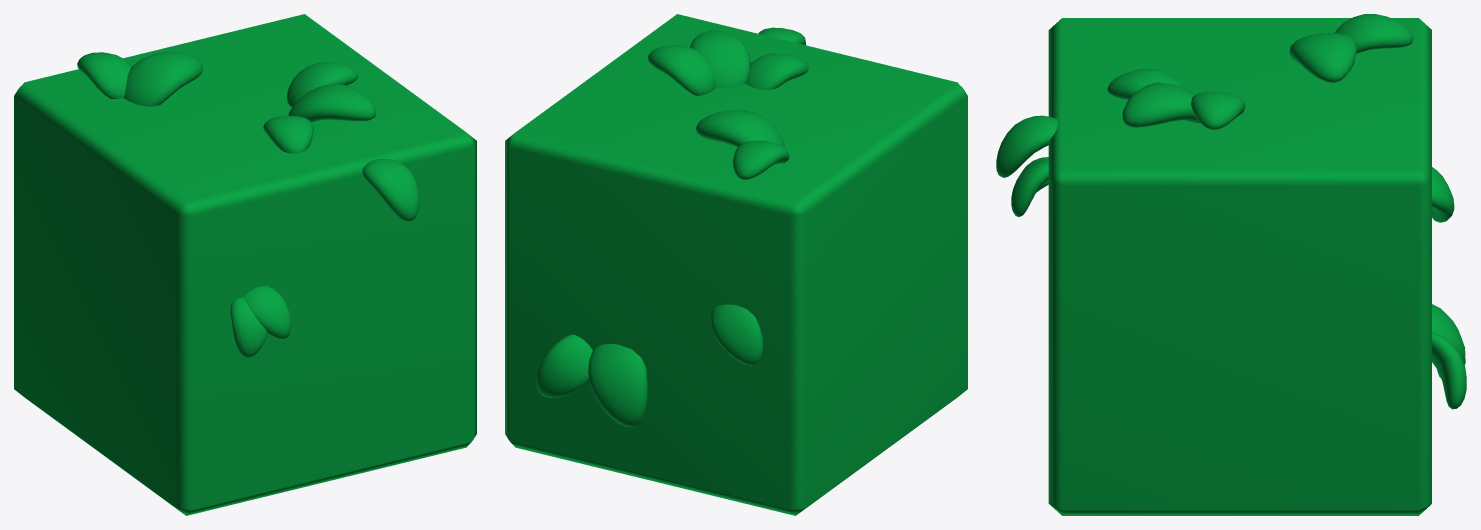
Rendered from Town_11_Hedge_2.glb.
3 views of the same model, side by side, from view 1: azimuth 30°, elevation 25°; view 2: azimuth 150°, elevation 25°; view 3: azimuth 270°, elevation 25° (orthographic). The views are drawn at different scales.
Parts seen in each view (by area): view 1: Town_11_Hedge_2; view 2: Town_11_Hedge_2; view 3: Town_11_Hedge_2.
Part boxes in pixels (x1=…): Town_11_Hedge_2: x1=14, y1=14, x2=476, y2=515; Town_11_Hedge_2: x1=505, y1=14, x2=967, y2=515; Town_11_Hedge_2: x1=996, y1=14, x2=1466, y2=515.
Size of the model in its own units: 1.43 by 1.58 by 1.76.
1 material, 1 textured.
